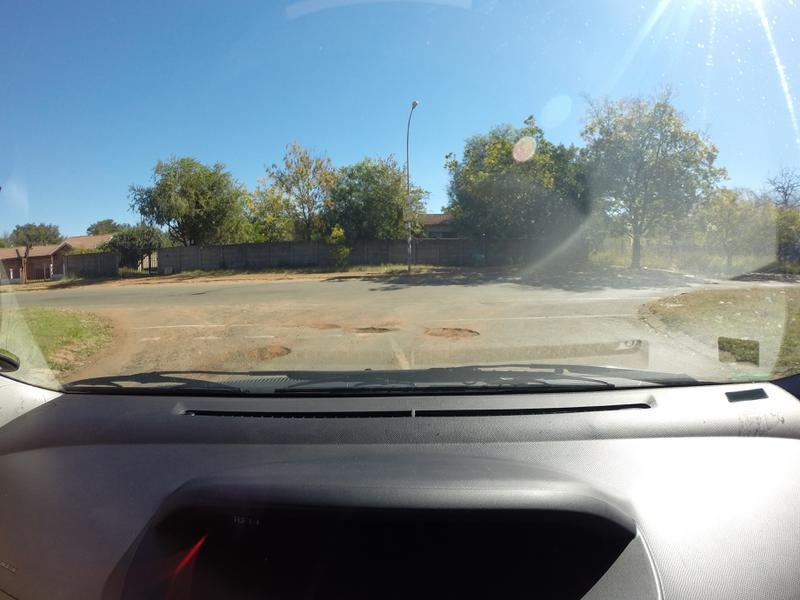pothole: (242, 333, 303, 366), (427, 318, 492, 345), (291, 315, 340, 336), (348, 319, 397, 338)
